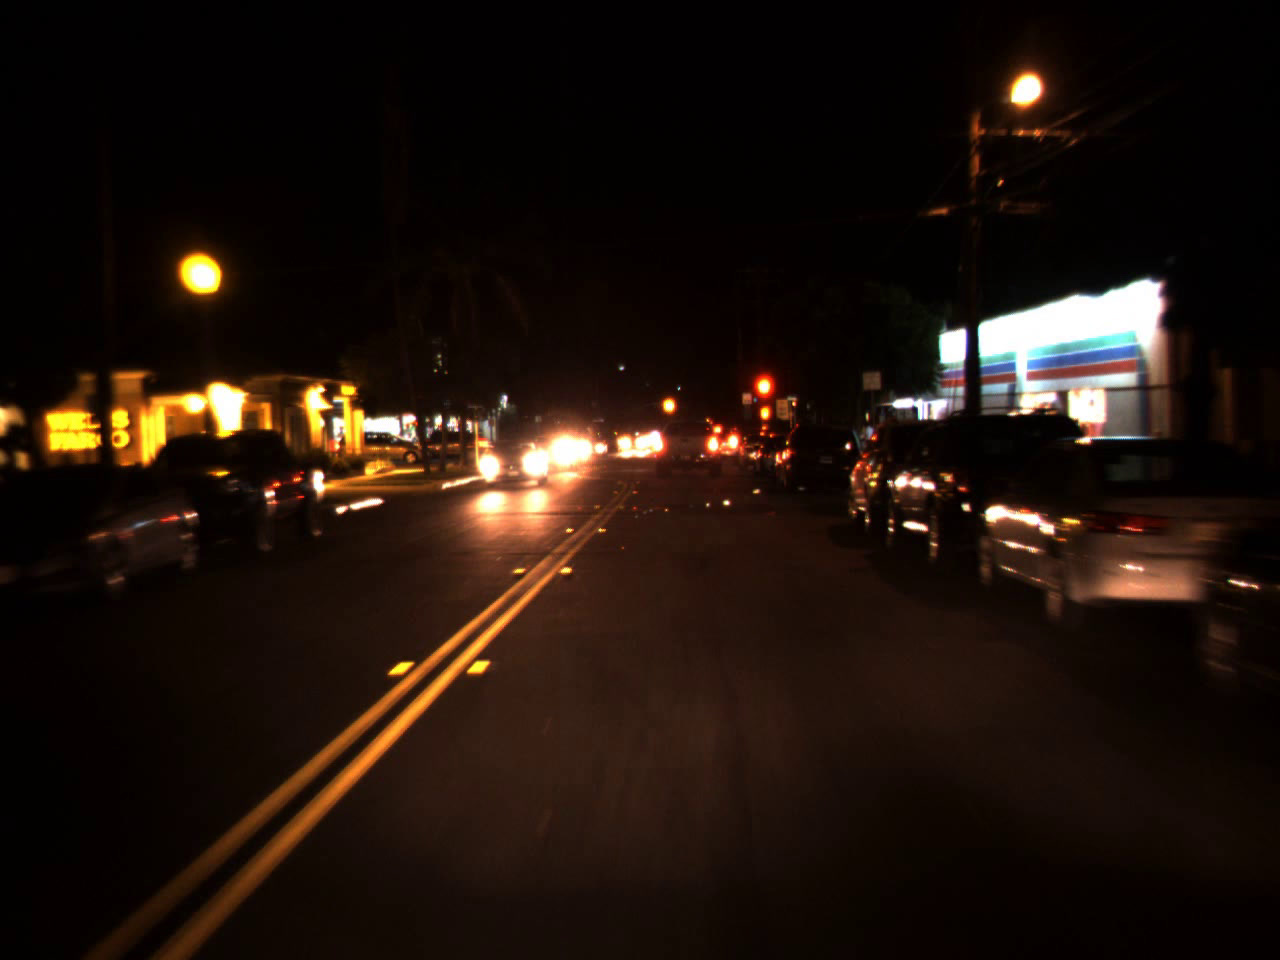stop: (749, 369, 779, 431)
warning: (659, 385, 678, 425)
